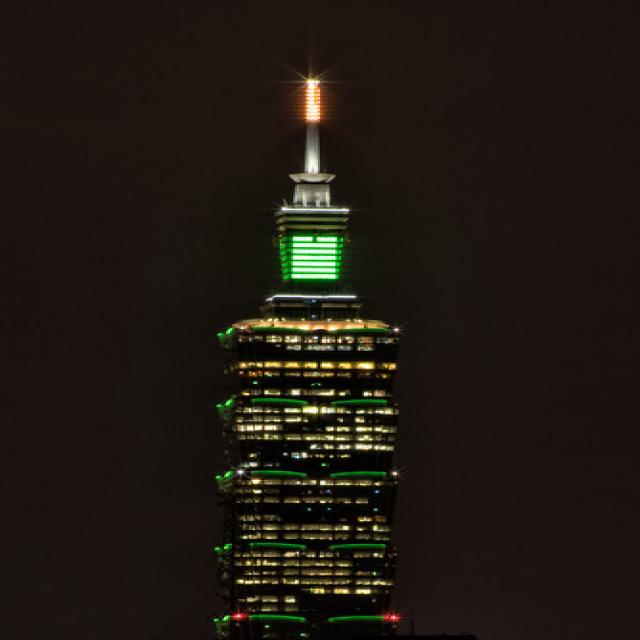building: (203, 167, 414, 638)
